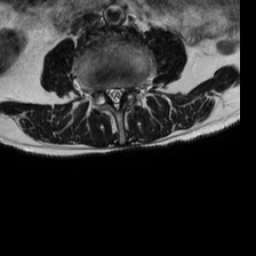CCS_normal: (112, 80, 118, 115)
LFS_severe_stenosis: (126, 81, 132, 97)
LLS_stenosis: (118, 81, 125, 102)
RFS_severe_stenosis: (97, 81, 105, 101)
RLS_stenosis: (105, 81, 112, 103)
